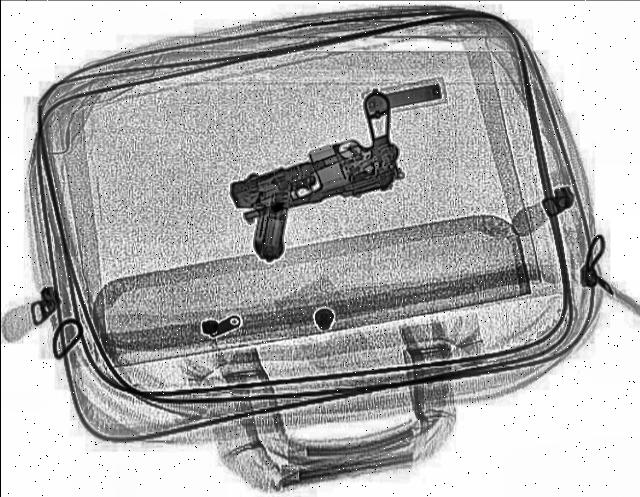Gun: (202, 92, 430, 228), (215, 142, 409, 264)
